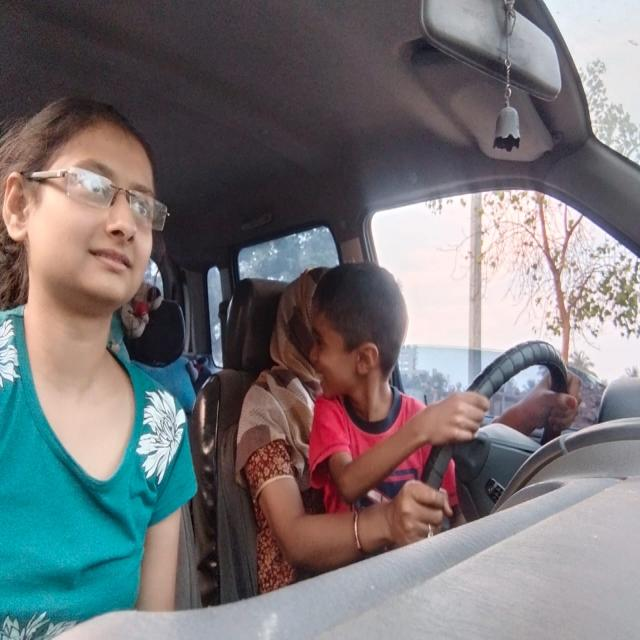child: (311, 266, 405, 386)
person: (2, 100, 158, 308), (277, 275, 315, 382)
